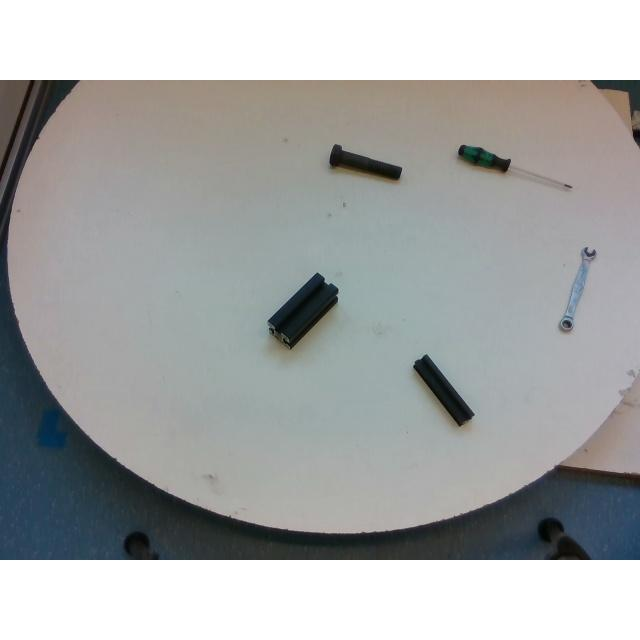F20_20_B: (414, 356, 474, 424)
M20_100: (329, 144, 401, 180)
S40_40_B: (268, 273, 338, 347)
Screwdriver: (458, 144, 574, 188)
Wrench: (558, 247, 594, 331)
